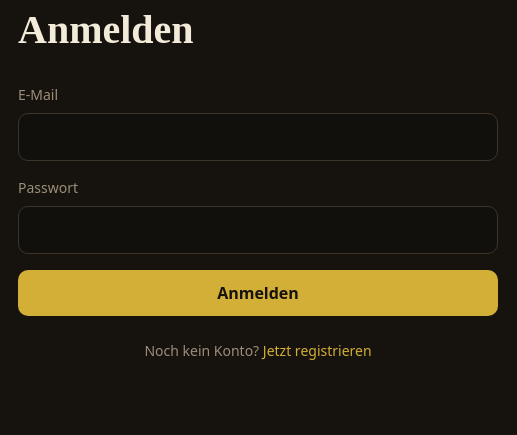
Test: LoginPage › validiert leere Felder clientseitig, ohne die API aufzurufen
Click the button "Anmelden" at (258, 293), box [18,270,498,316]
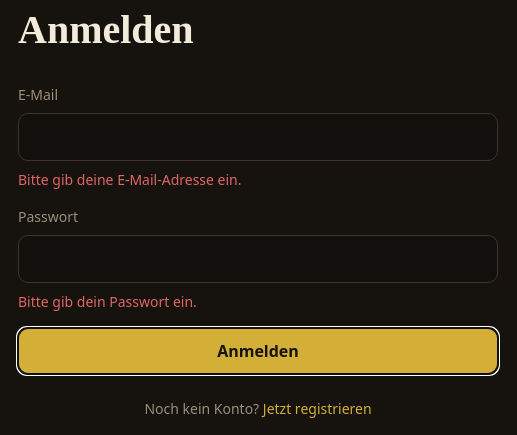
Expected: the text "Bitte gib deine E-Mail-Adresse ein." is shown, [18,170,242,189]
Expected: the text "Bitte gib dein Passwort ein." is shown, [18,292,197,311]
